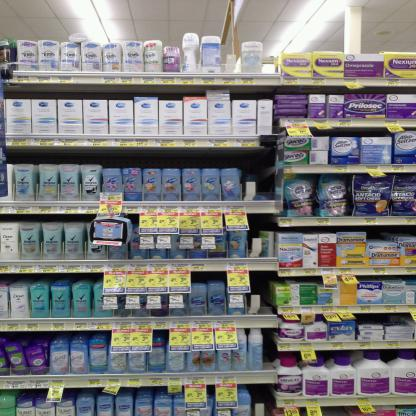Void: (249, 153, 272, 196), (250, 275, 274, 312), (253, 214, 272, 256), (254, 388, 273, 414)
